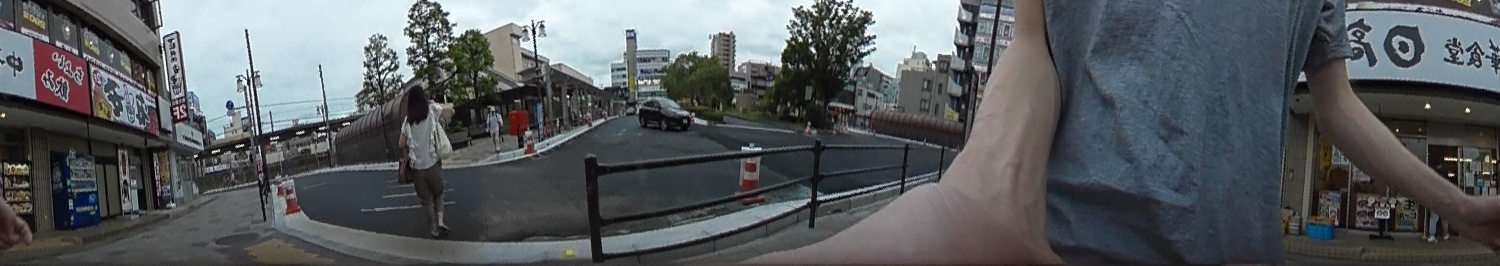person: (399, 83, 451, 236), (485, 104, 503, 153)
